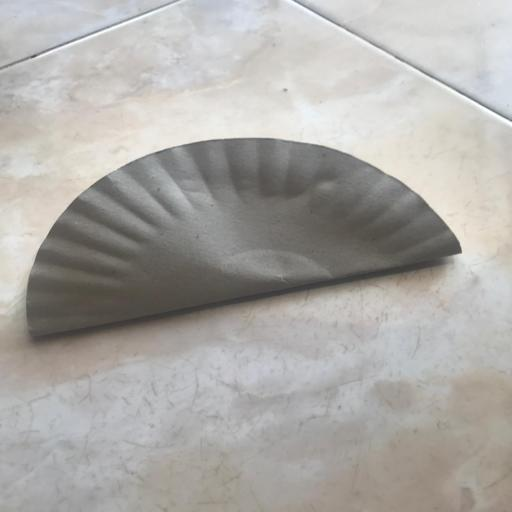waste: (19, 116, 470, 346)
